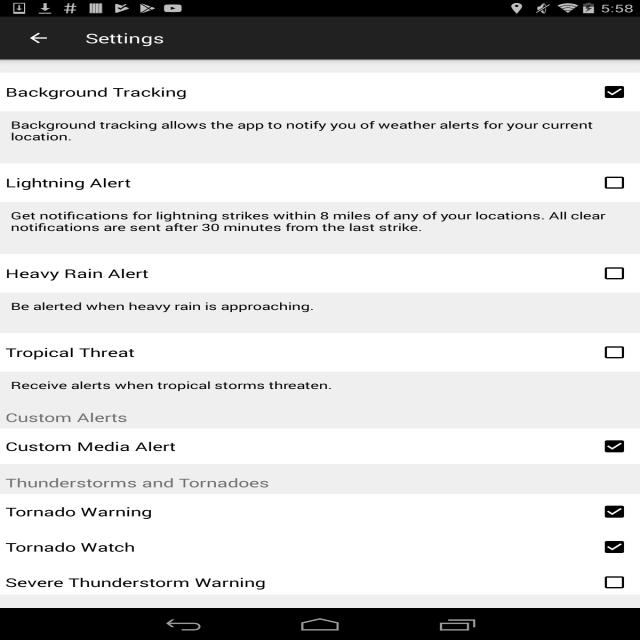CheckBox: (585, 171, 633, 197), (589, 571, 634, 594), (595, 536, 629, 558), (596, 501, 633, 521), (593, 82, 627, 103), (596, 348, 626, 368), (600, 430, 623, 456), (596, 264, 633, 280)
TextView: (11, 213, 618, 241), (9, 120, 594, 144), (9, 373, 334, 400), (2, 295, 316, 320), (0, 573, 274, 592), (7, 474, 276, 491), (2, 81, 198, 102), (8, 340, 164, 366), (5, 263, 155, 285), (3, 171, 148, 190), (9, 503, 162, 521), (5, 539, 148, 558), (75, 28, 173, 54), (8, 441, 202, 454), (8, 411, 155, 426)
